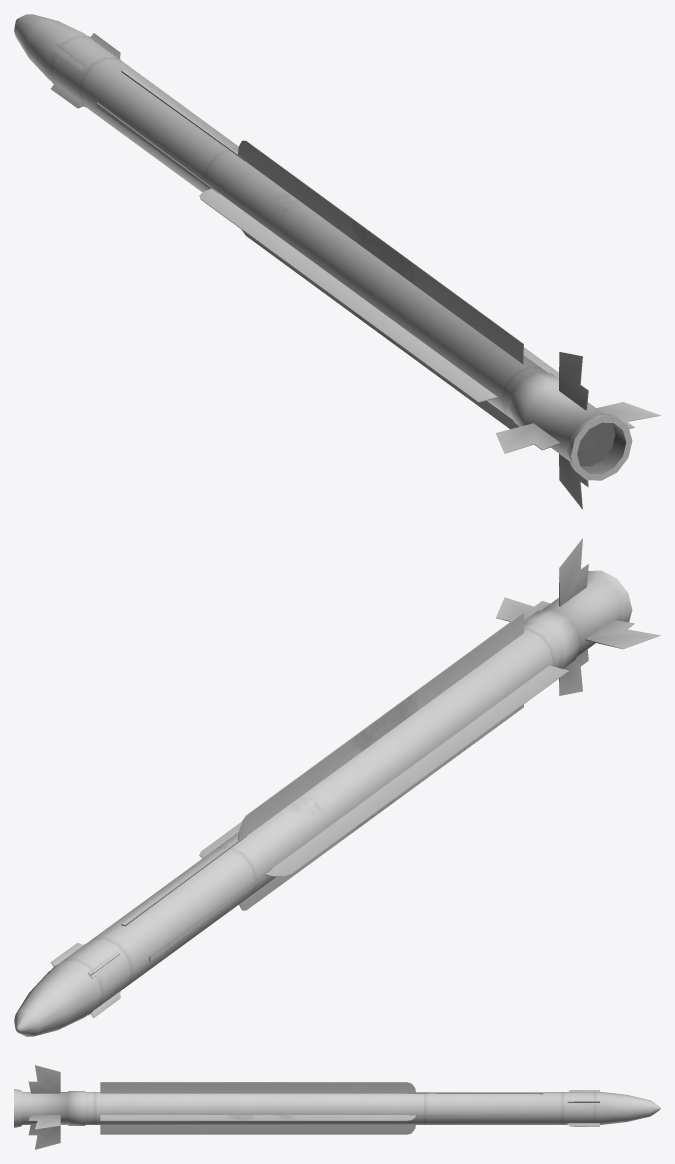
The model's file is aam_mica.glb.
3 views of the same model, one above another, from view 1: azimuth 30°, elevation 25°; view 2: azimuth 150°, elevation 25°; view 3: azimuth 270°, elevation 25° (orthographic). The views are drawn at different scales.
Visible parts, largest first — view 1: body|SAM_VL_MICA; view 2: body|SAM_VL_MICA; view 3: body|SAM_VL_MICA.
Boxes of the visible parts, left/top/right/bottom form: body|SAM_VL_MICA: left=14, top=14, right=660, bottom=509; body|SAM_VL_MICA: left=14, top=538, right=660, bottom=1036; body|SAM_VL_MICA: left=14, top=1065, right=660, bottom=1149.
Size of the model in its own units: 0.4795 by 0.4496 by 3.11.
1 material, 1 textured.
